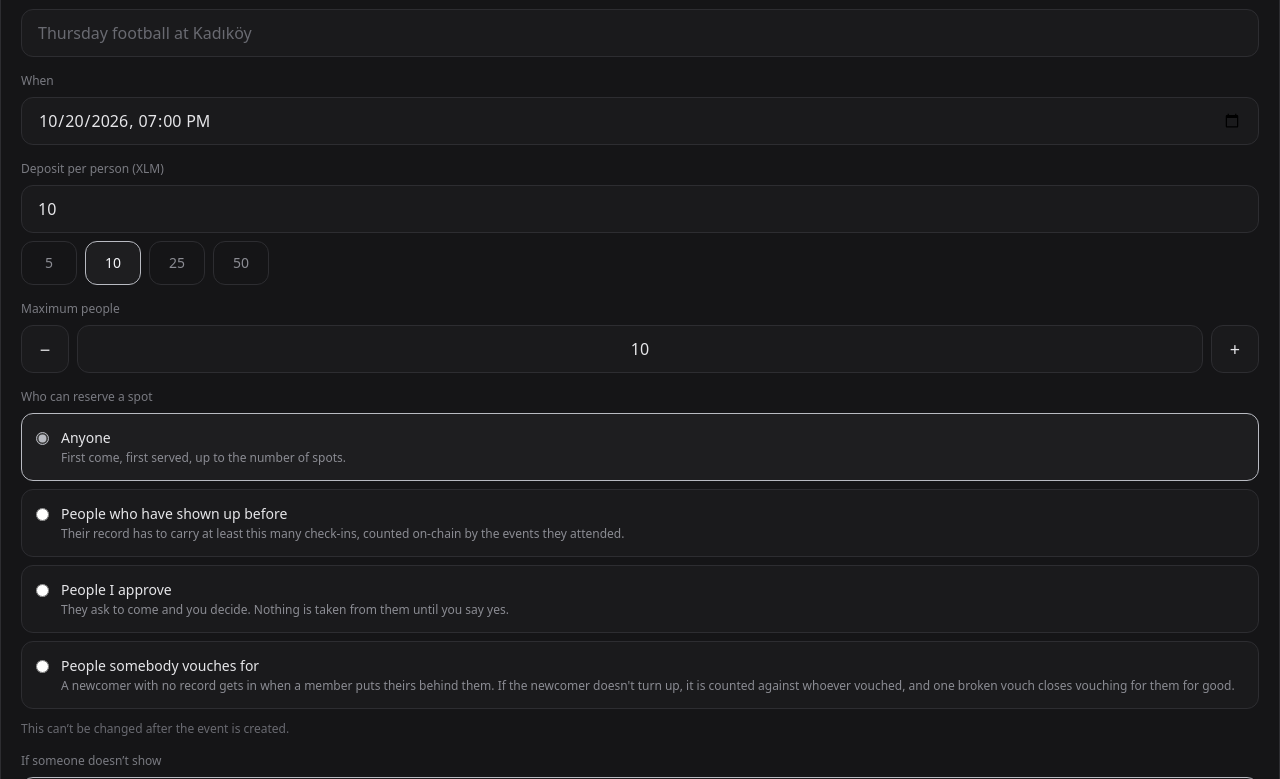
CreateEvent — the wait › names both steps, and locks the form during them
The width and height of the screenshot is (1280, 779).
Type "Perşembe halı saha" into the field labelled "Event name" at (640, 33), box [21,9,1259,57]
(page scrolled)
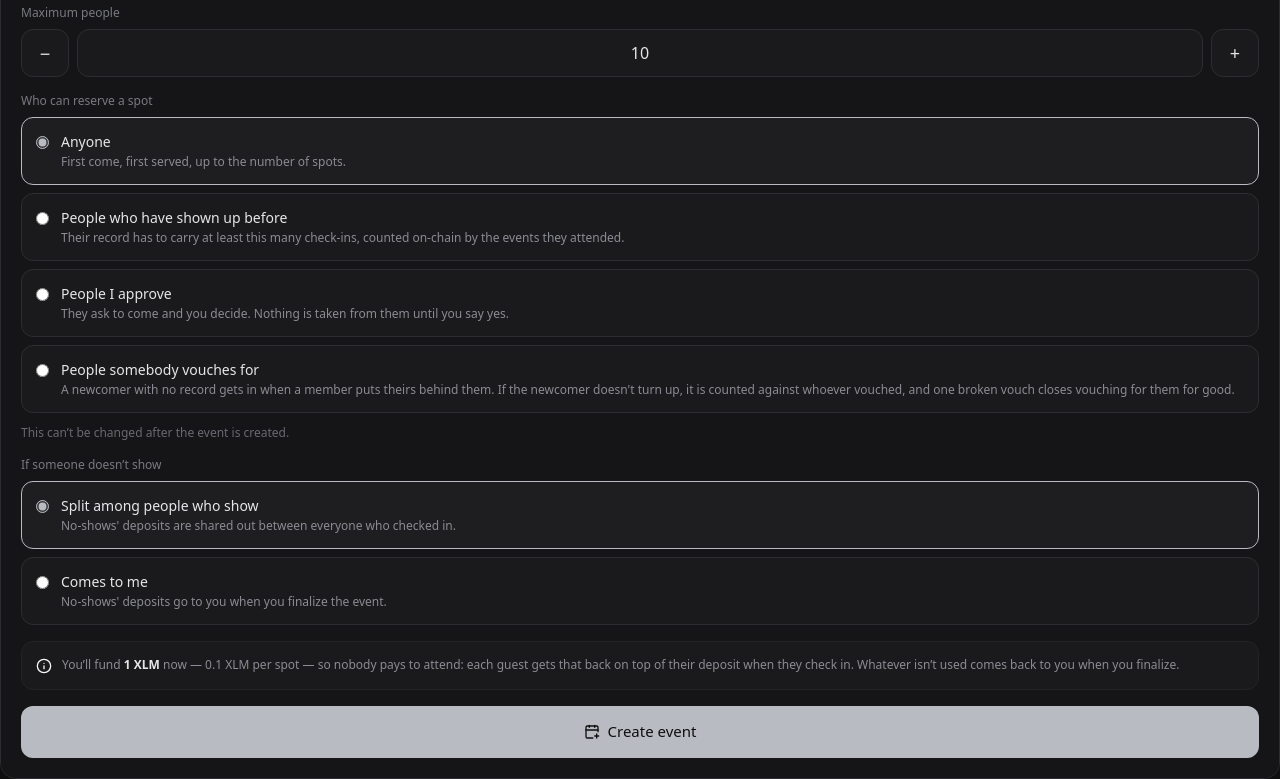
Click the button "Create event" at (640, 732), box [21,706,1259,758]
(page scrolled)
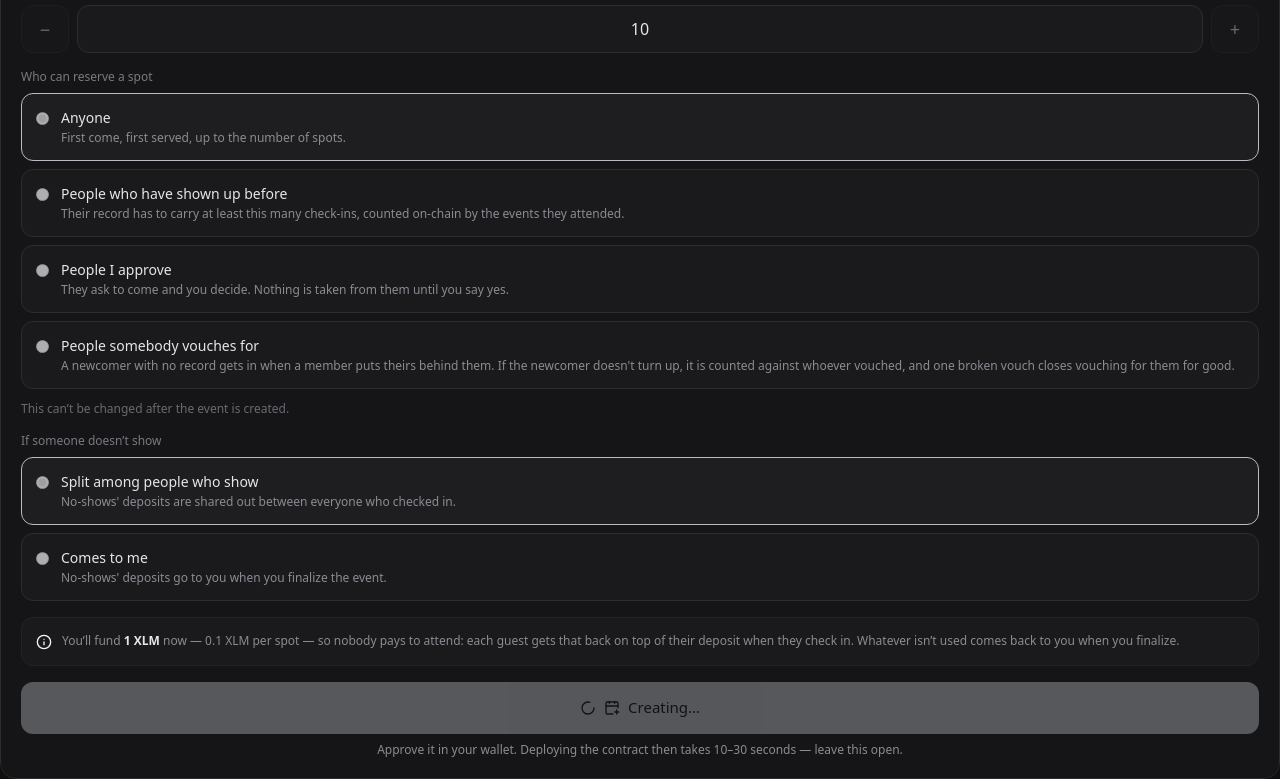
Result: the text "Approve it in your wallet" is shown at [377,741,903,758]
